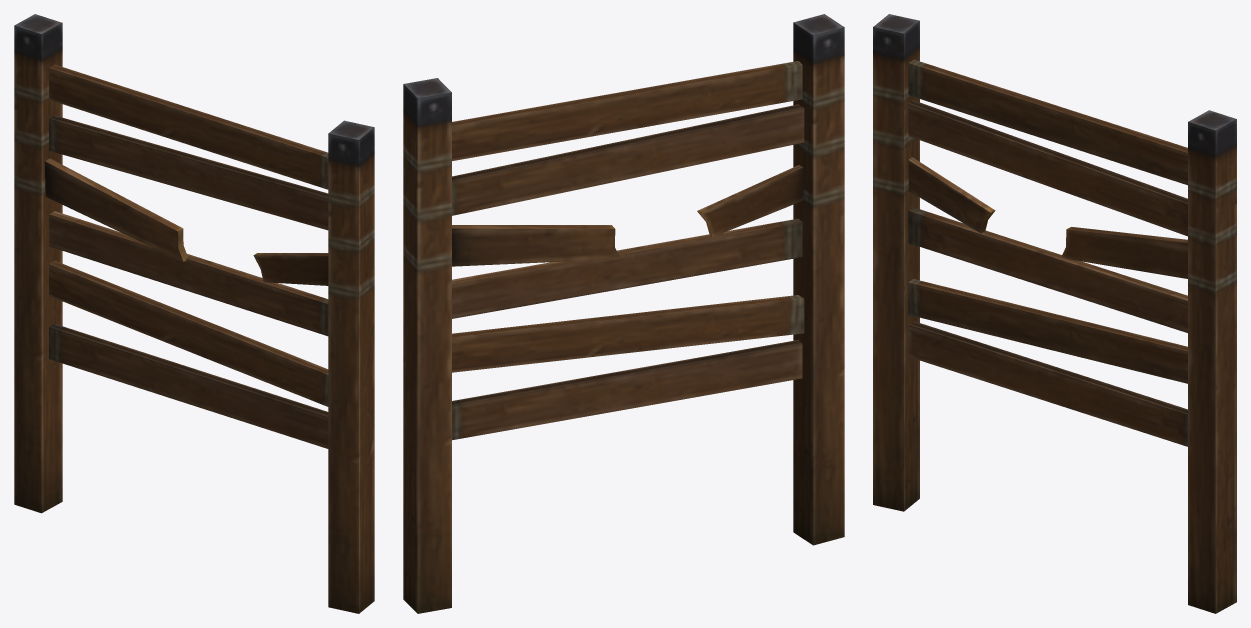
The model's file is Barrier2.fbx.
3 renders of one model, left to right at view 1: azimuth 90°, elevation 25°; view 2: azimuth 150°, elevation 25°; view 3: azimuth 270°, elevation 25°, orthographic. The views are drawn at different scales.
Visible parts, largest first — view 1: Barrier2; view 2: Barrier2; view 3: Barrier2.
Boxes of the visible parts, x1,y1,x2,y2 form: Barrier2: [14, 14, 374, 613]; Barrier2: [403, 14, 844, 613]; Barrier2: [873, 14, 1236, 613].
Size of the model in its own units: 248 by 458 by 313.
1 material, 1 textured.
